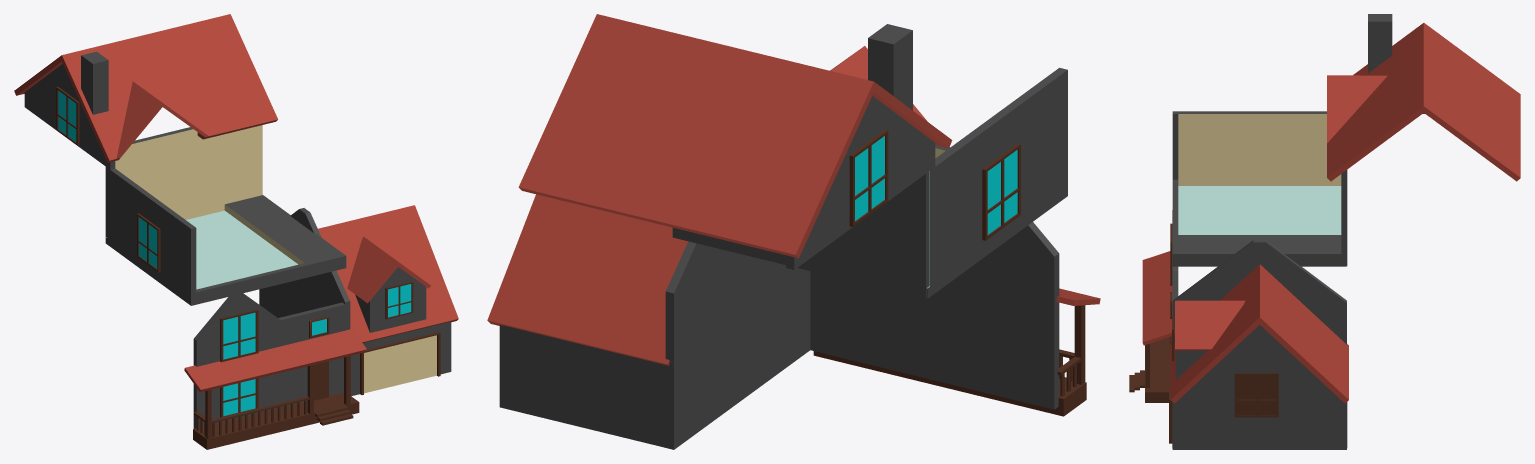
File: mesh_USAHouseBlendShp.fbx
The picture shows the model from 3 angles, left to right: view 1: azimuth 30°, elevation 25°; view 2: azimuth 150°, elevation 25°; view 3: azimuth 270°, elevation 25°; orthographic projection. The views are drawn at different scales.
Parts seen in each view (by area): view 1: USAHouse; view 2: USAHouse; view 3: USAHouse.
Part boxes in pixels (x1,y1,x2,y2): USAHouse: (14, 14, 458, 449); USAHouse: (487, 14, 1100, 449); USAHouse: (1129, 14, 1520, 449).
Size of the model in its own units: 1075 by 1157 by 1319.
